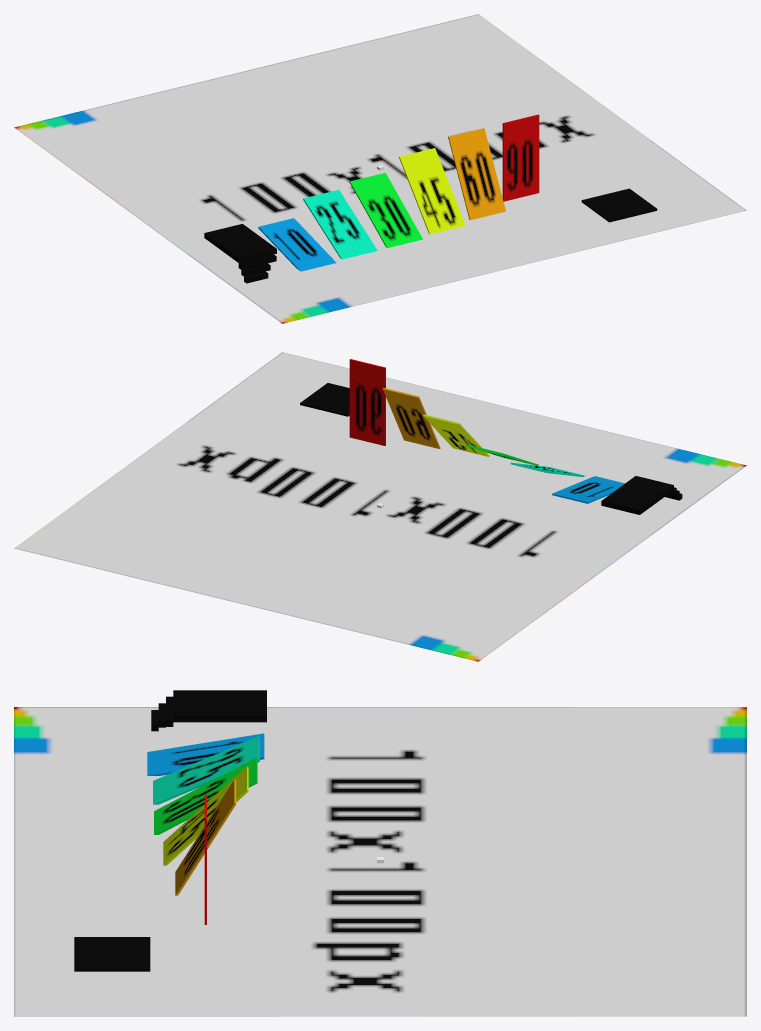
File: Stage00.glb
3 views of the same model, one above another, from view 1: azimuth 30°, elevation 25°; view 2: azimuth 150°, elevation 25°; view 3: azimuth 270°, elevation 25° (orthographic). The views are drawn at different scales.
Visible parts, largest first — view 1: dbgstage; view 2: dbgstage; view 3: dbgstage.
Boxes of the visible parts, <box> form: dbgstage: <box>14,14,746,323</box>; dbgstage: <box>14,352,746,661</box>; dbgstage: <box>14,690,746,1016</box>.
Size of the model in its own units: 1 by 0.1653 by 1.
2 materials, 1 textured.
